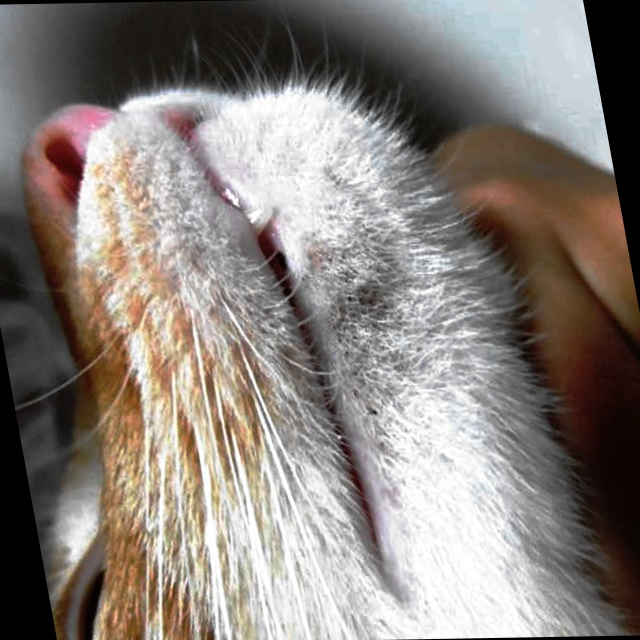acne: (316, 229, 420, 426)
